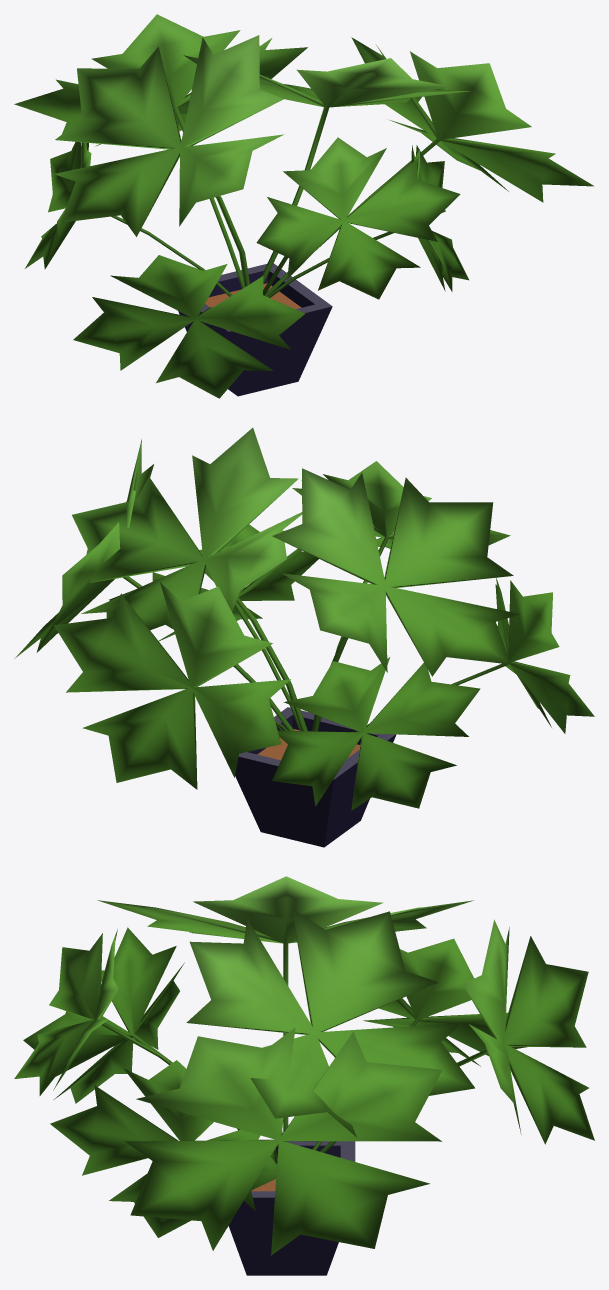
File: pfp06.fbx
3 renders of one model, top to bottom at view 1: azimuth 30°, elevation 25°; view 2: azimuth 150°, elevation 25°; view 3: azimuth 270°, elevation 25°, orthographic. The views are drawn at different scales.
Parts seen in each view (by area): view 1: pfp06; view 2: pfp06; view 3: pfp06.
Part boxes in pixels (<box>): pfp06: <box>14,14,593,398</box>; pfp06: <box>14,428,594,847</box>; pfp06: <box>14,876,594,1275</box>.
Bounding box in the file's own units: 96.75 × 62.75 × 85.3.
